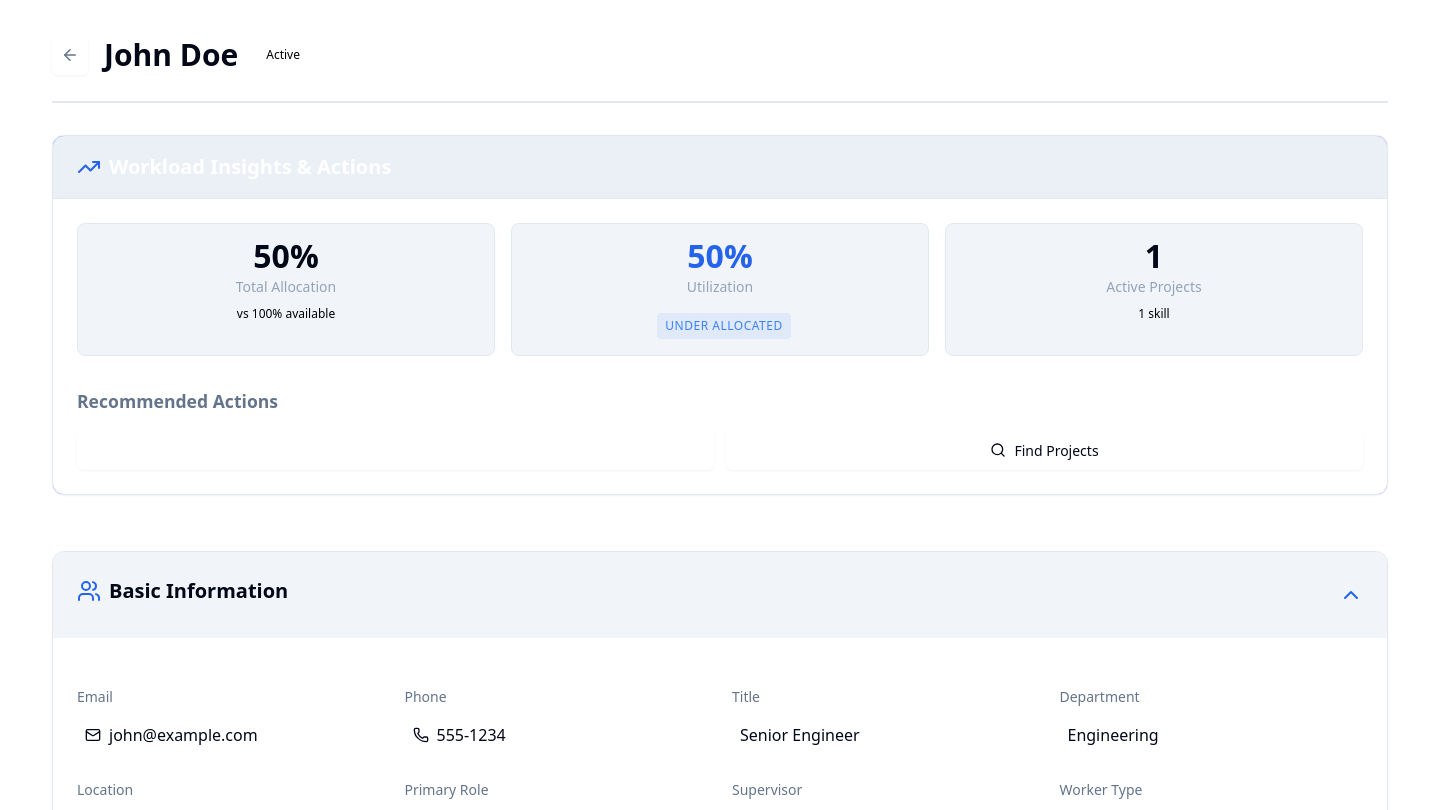
Test case: PersonDetails › InlineEdit Keyboard Shortcuts › cancels on Escape key press
Click to enter edit mode
Click the text "john@example.com" at (183, 735), box [109,723,258,747]
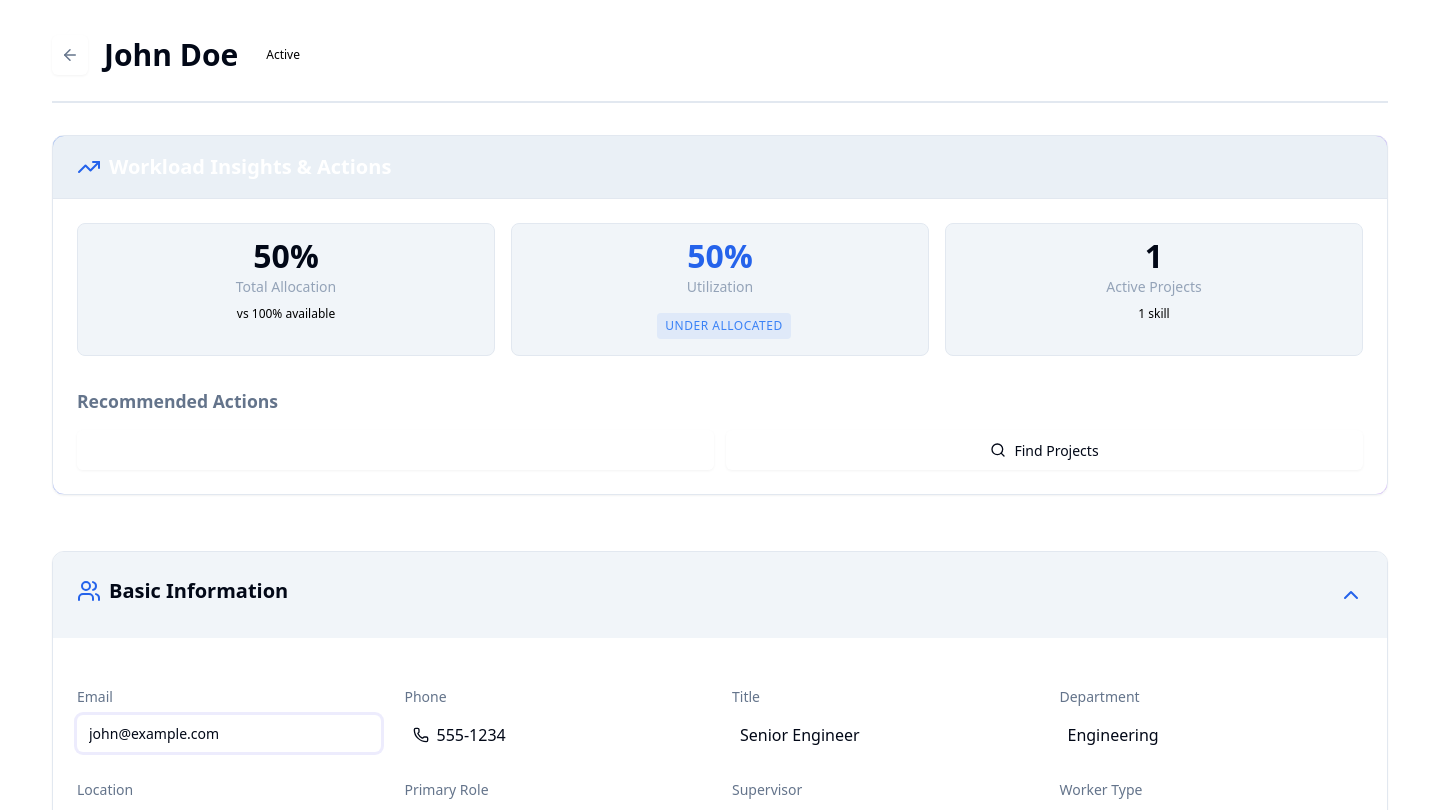
Replace the text in the field with placeholder "Enter email" with "cancelled@example.com" at (229, 734), box [77,715,380,752]
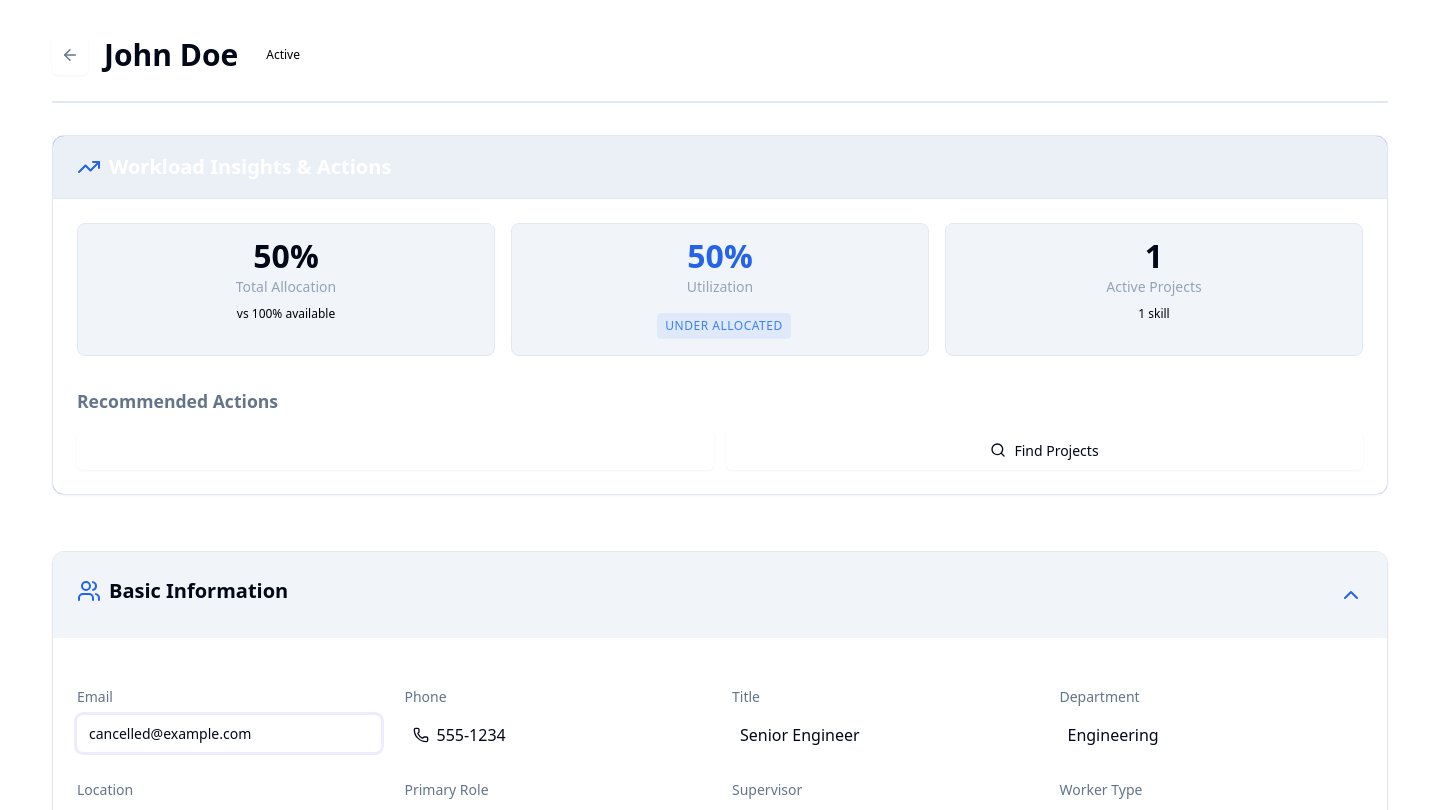
Press Escape in the field with placeholder "Enter email", box [77,715,380,752]
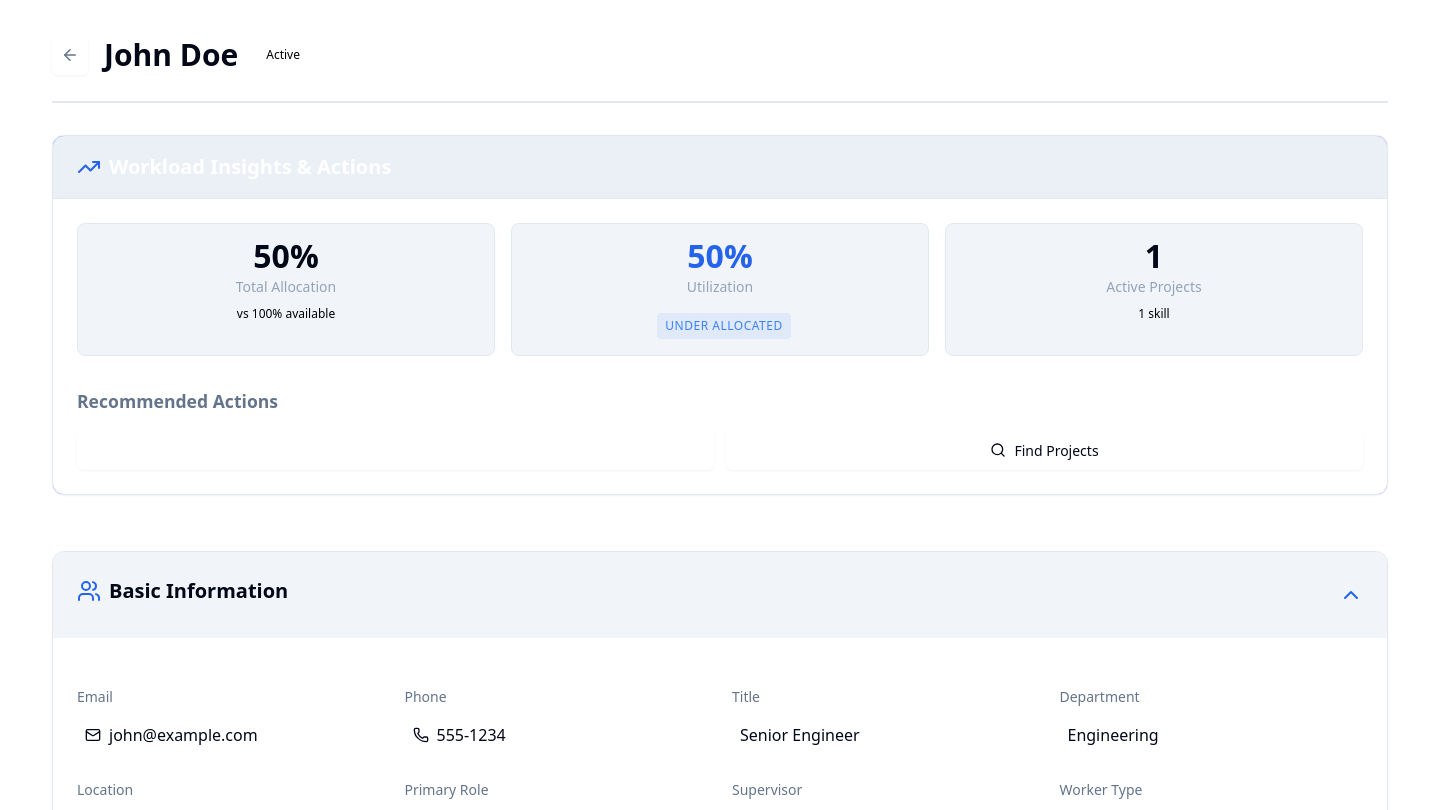
Expected: the text "john@example.com" is shown, [109,723,258,747]
